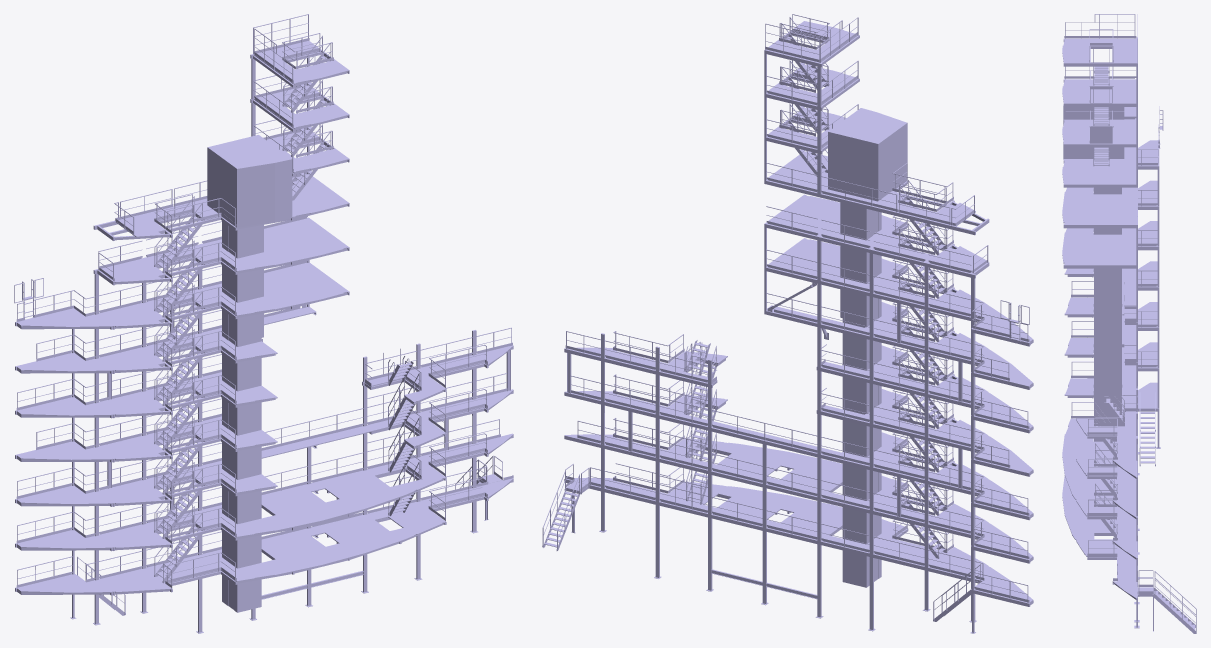
The model's file is Cavern-HO-SideA-cut4.glb.
3 views of the same model, side by side, from view 1: azimuth 30°, elevation 25°; view 2: azimuth 150°, elevation 25°; view 3: azimuth 270°, elevation 25° (orthographic). The views are drawn at different scales.
Visible parts, largest first — view 1: S__000001C69006A490; view 2: S__000001C69006A490; view 3: S__000001C69006A490.
Boxes of the visible parts, box(x1,y1,x2,y2) form: S__000001C69006A490: box(14, 14, 513, 633); S__000001C69006A490: box(542, 14, 1033, 633); S__000001C69006A490: box(1062, 14, 1196, 633).
Bounding box in the file's own units: 28.74 × 33.4 × 7.56.
